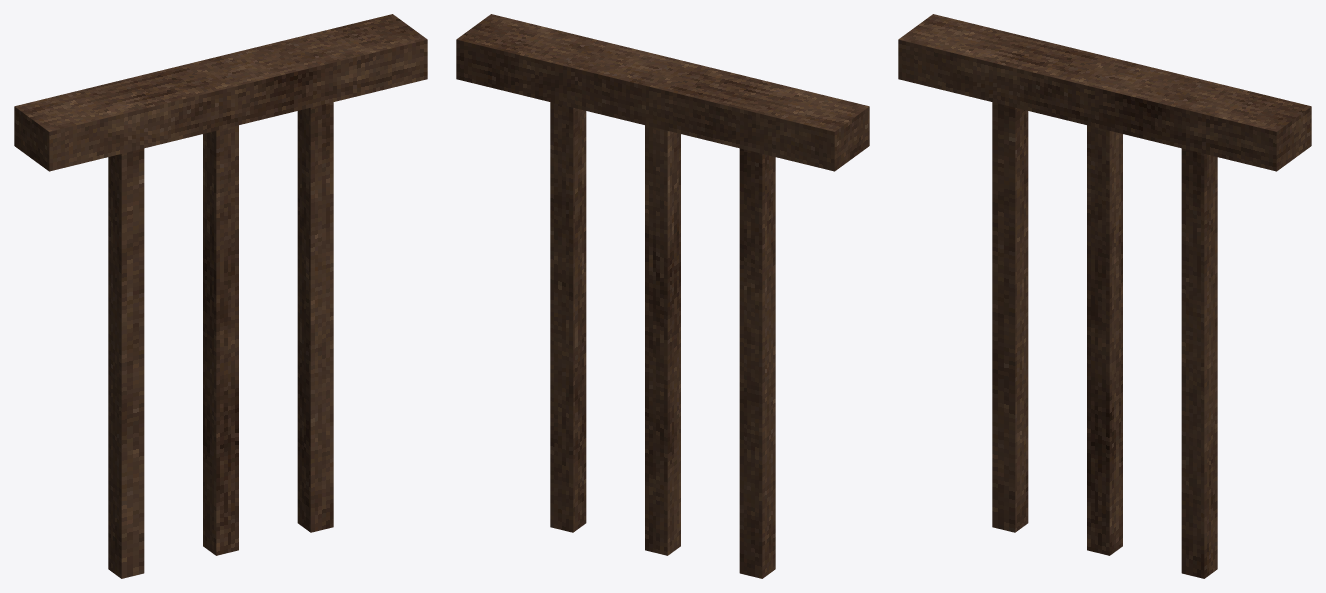
The model's file is railing_balcony_02.glb.
3 renders of one model, left to right at view 1: azimuth 30°, elevation 25°; view 2: azimuth 150°, elevation 25°; view 3: azimuth 330°, elevation 25°, orthographic.
Parts seen in each view (by area): view 1: railing_balcony_022; view 2: railing_balcony_022; view 3: railing_balcony_022.
Part boxes in pixels (x1=…): railing_balcony_022: x1=14, y1=14, x2=427, y2=578; railing_balcony_022: x1=456, y1=14, x2=869, y2=578; railing_balcony_022: x1=898, y1=14, x2=1311, y2=578.
Size of the model in its own units: 1 by 1.2 by 0.16.
1 material, 1 textured.
